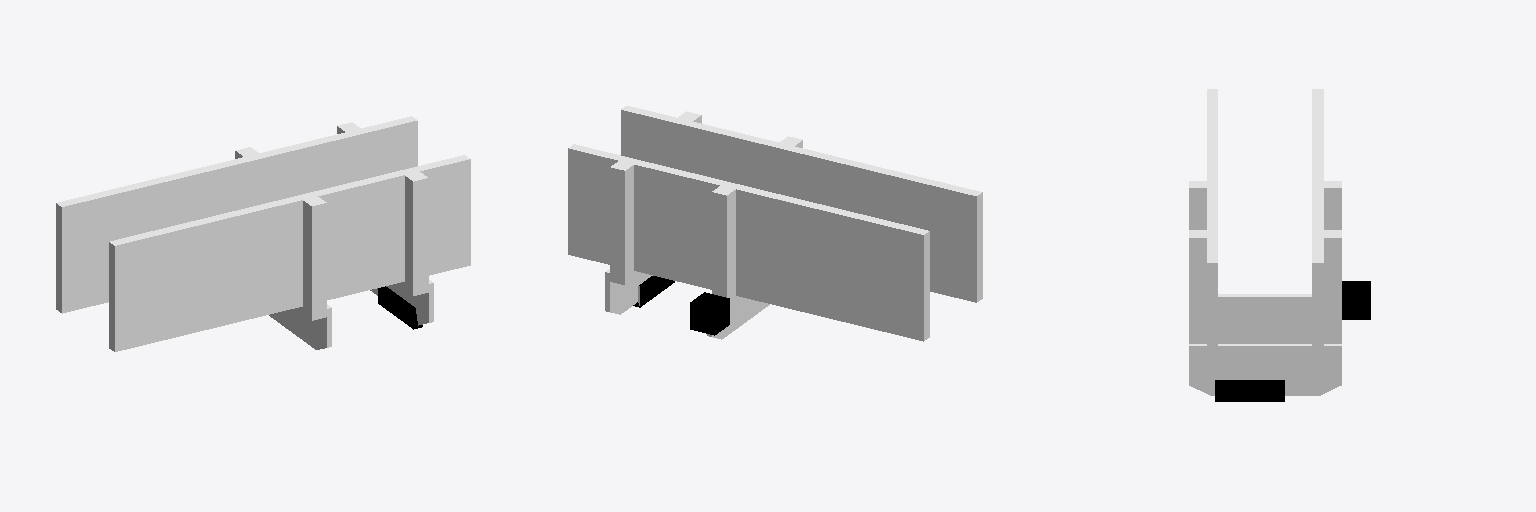
Rendered from 周边建筑2.obj.
The picture shows the model from 3 angles: view 1: azimuth 30°, elevation 25°; view 2: azimuth 150°, elevation 25°; view 3: azimuth 270°, elevation 25°; orthographic projection.
Parts seen in each view (by area): view 1: 周围建筑2; view 2: 周围建筑2; view 3: 周围建筑2.
Boxes of the visible parts, box(x1,y1,x2,y2) form: 周围建筑2: box(56, 116, 470, 351); 周围建筑2: box(568, 106, 982, 341); 周围建筑2: box(1189, 89, 1370, 401).
Size of the model in its own units: 7 by 3.02 by 3.1.